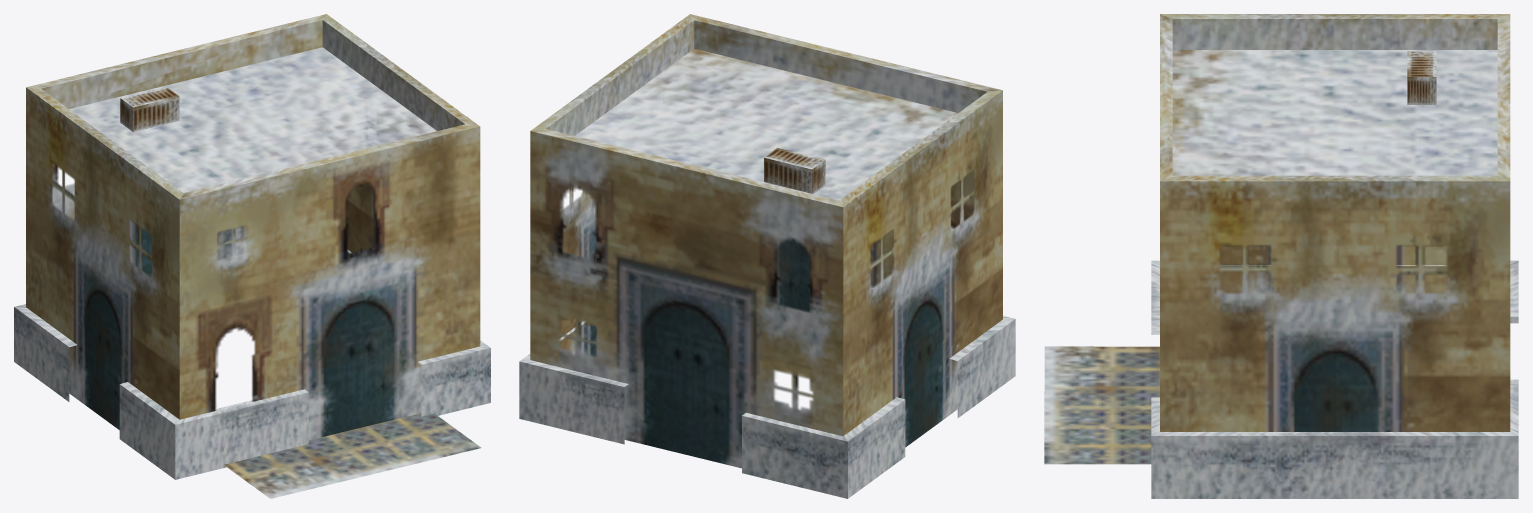
File: Civilian - Residential Building - Mogadishu House 05 - Snow and Night - CBTHouse05_SN.glb
The picture shows the model from 3 angles, left to right: view 1: azimuth 30°, elevation 25°; view 2: azimuth 150°, elevation 25°; view 3: azimuth 270°, elevation 25°; orthographic projection. The views are drawn at different scales.
Visible parts, largest first — view 1: CBTHOUSE05_SN; view 2: CBTHOUSE05_SN; view 3: CBTHOUSE05_SN.
Part boxes in pixels (x1,y1,x2,y2): CBTHOUSE05_SN: [14, 14, 490, 498]; CBTHOUSE05_SN: [519, 14, 1015, 498]; CBTHOUSE05_SN: [1044, 14, 1518, 498].
Size of the model in its own units: 47.46 by 39.63 by 54.23.
Materials: 1 (1 with a texture image).
